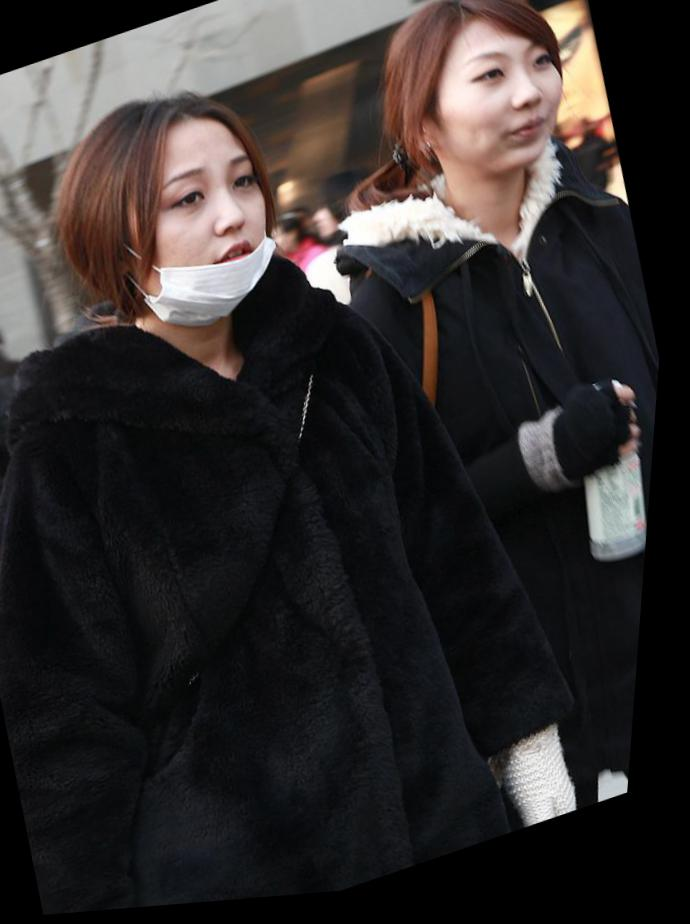NONE: (407, 16, 587, 203)
WRONG: (106, 148, 304, 347)
